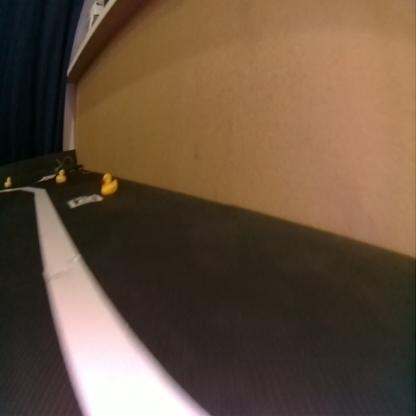Duckie: (101, 173, 116, 194), (56, 170, 64, 181), (5, 176, 11, 186)
QR code: (68, 193, 100, 207)
